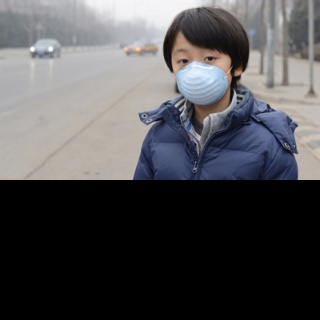with_mask: (171, 43, 232, 105)
